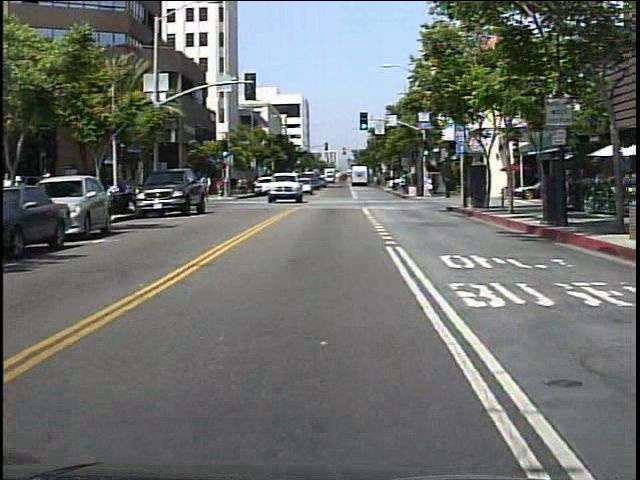person: (198, 171, 218, 201), (443, 171, 457, 203), (423, 177, 435, 200), (214, 178, 225, 200)
